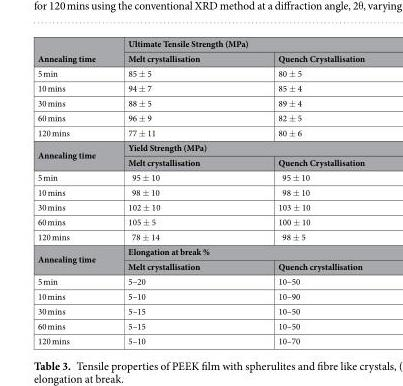table: (36, 36, 364, 346)
table column: (111, 36, 238, 346), (238, 36, 364, 346), (36, 36, 111, 346)
table column header: (36, 36, 364, 65)
table row: (36, 50, 364, 65), (36, 65, 364, 80), (36, 80, 364, 95), (36, 95, 364, 110), (36, 124, 364, 139), (36, 139, 364, 154), (36, 154, 364, 169), (36, 169, 364, 184), (36, 184, 364, 199), (36, 199, 364, 214), (36, 228, 364, 243), (36, 243, 364, 258), (36, 258, 364, 273), (36, 273, 364, 288), (36, 288, 364, 303), (36, 303, 364, 318), (36, 318, 364, 333), (36, 36, 364, 50), (36, 110, 364, 124), (36, 214, 364, 228), (36, 333, 364, 346)
table spanning cell: (111, 139, 364, 154), (111, 243, 364, 258), (111, 36, 364, 50), (36, 139, 111, 169), (36, 243, 111, 273), (36, 36, 111, 65)
